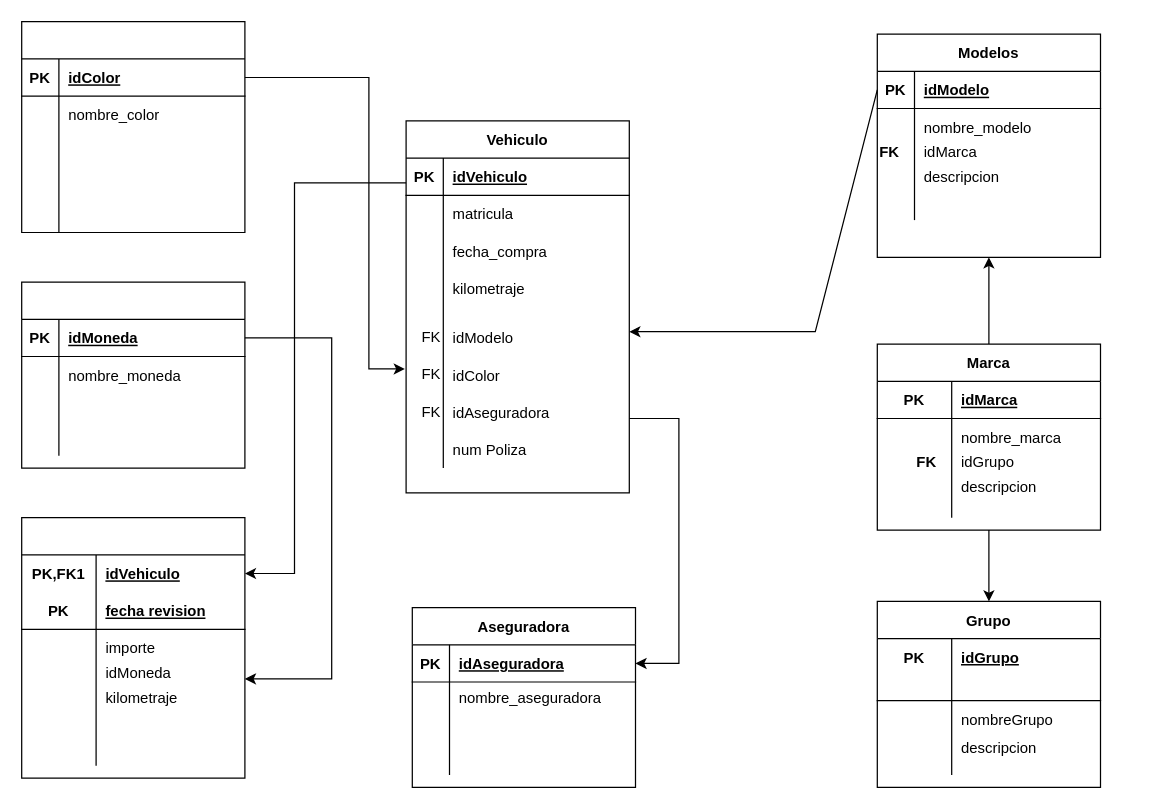
This 1159x810 diagram has some shape labels left out. The shapes that lost their labels are listed below. From the top down, each one's box as (x1, y1, x2, y2) in pixels, then its label:
(20, 20, 245, 232): Colores
(20, 281, 245, 468): Monedas
(20, 516, 245, 778): revisiones
